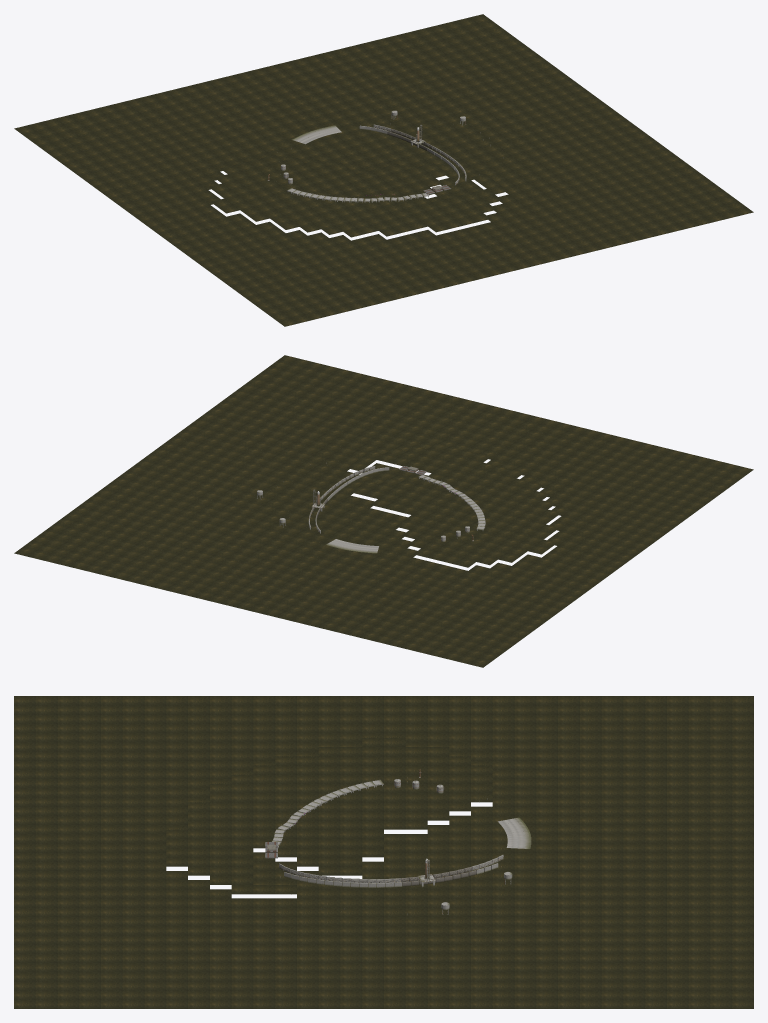
Rendered from painted.glb.
3 views of the same model, one above another, from view 1: azimuth 30°, elevation 25°; view 2: azimuth 150°, elevation 25°; view 3: azimuth 270°, elevation 25° (orthographic). The views are drawn at different scales.
Visible parts, largest first — view 1: AP_ESTUARY_0_0_AP_MAT_water; view 2: AP_ESTUARY_0_0_AP_MAT_water; view 3: AP_ESTUARY_0_0_AP_MAT_water, AP_APRON_SWEEP_0_0_AP_MAT_concrete, AP_TRENCH_1_-1_AP_MAT_concrete.
Part boxes in pixels (left/top/right/bottom): AP_ESTUARY_0_0_AP_MAT_water: left=14, top=14, right=753, bottom=326; AP_ESTUARY_0_0_AP_MAT_water: left=14, top=355, right=753, bottom=667; AP_ESTUARY_0_0_AP_MAT_water: left=14, top=696, right=753, bottom=1008; AP_APRON_SWEEP_0_0_AP_MAT_concrete: left=498, top=817, right=531, bottom=848; AP_TRENCH_1_-1_AP_MAT_concrete: left=318, top=875, right=385, bottom=887.
Bounding box in the file's own units: 2176 × 92.16 × 2176.
6 materials, 6 textured.
